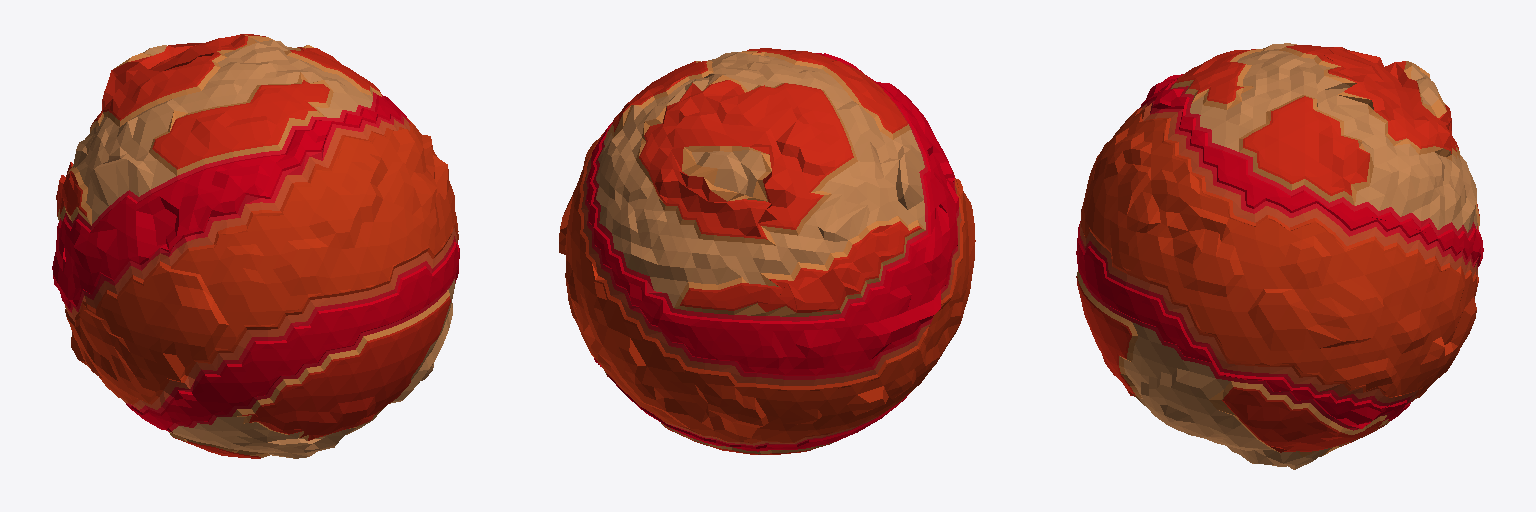
File: mars.obj
The picture shows the model from 3 angles: view 1: azimuth 30°, elevation 25°; view 2: azimuth 150°, elevation 25°; view 3: azimuth 270°, elevation 25°; orthographic projection.
Parts seen in each view (by area): view 1: Icosphere.001; view 2: Icosphere.001; view 3: Icosphere.001.
Boxes of the visible parts, box(x1,y1,x2,y2) form: Icosphere.001: box(52, 34, 459, 458); Icosphere.001: box(559, 48, 975, 454); Icosphere.001: box(1076, 43, 1483, 469).
Size of the model in its own units: 2.05 by 2.11 by 2.03.